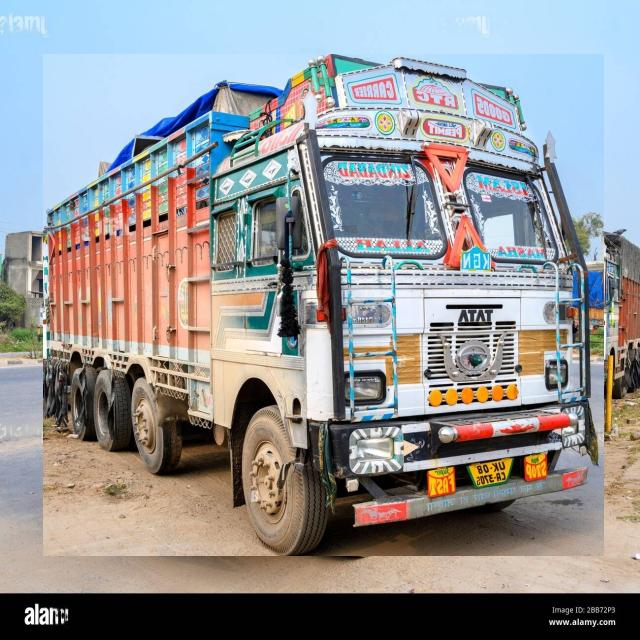truck: (44, 55, 604, 556)
